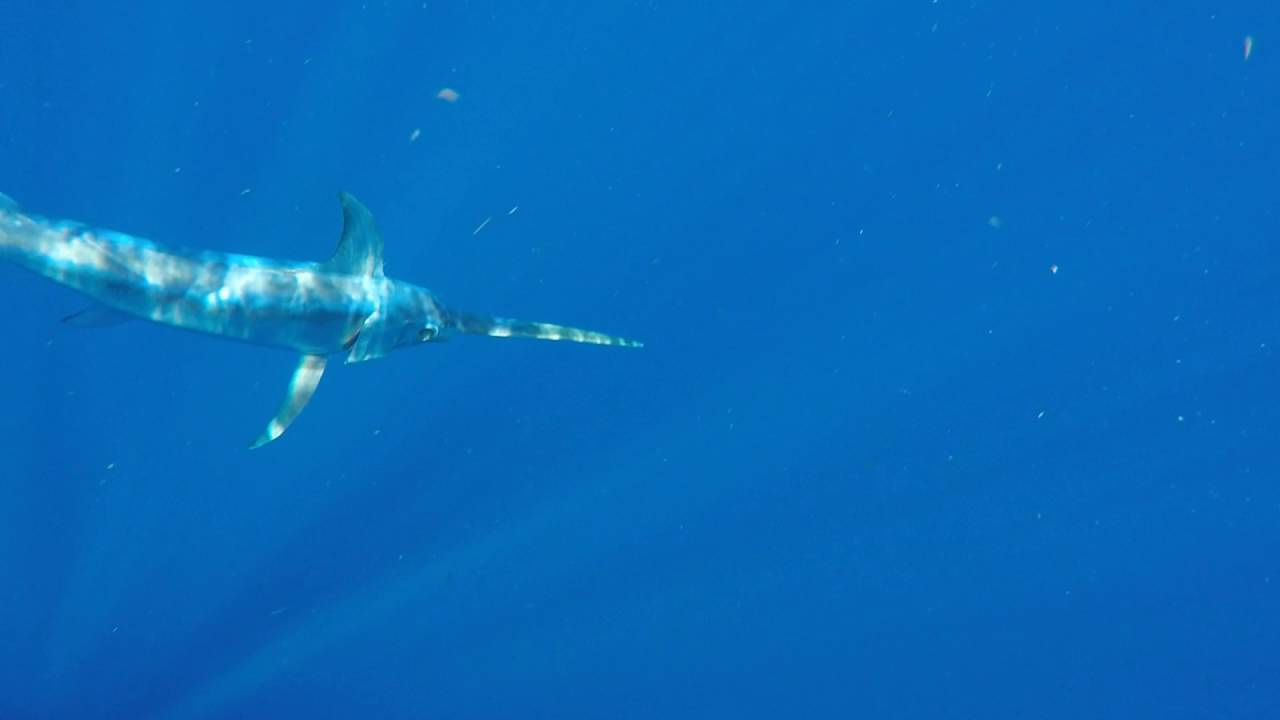swordfish: (5, 164, 672, 463)
